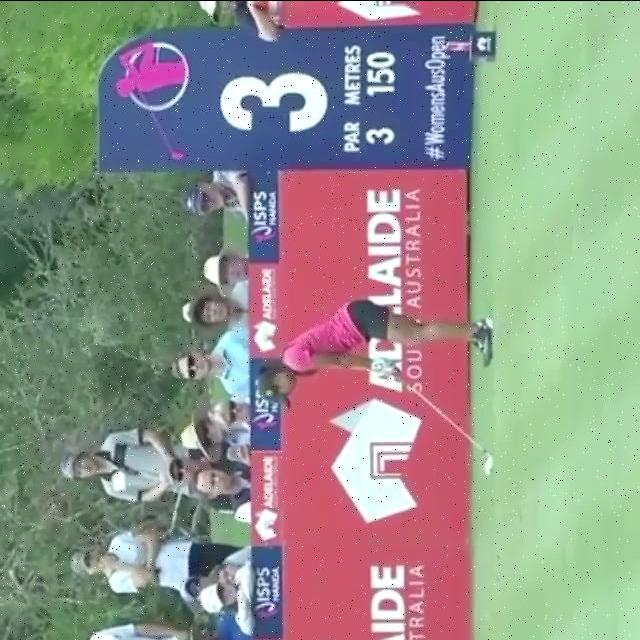golf club-handle: (405, 382, 494, 474)
golf club-head: (486, 454, 495, 473)
